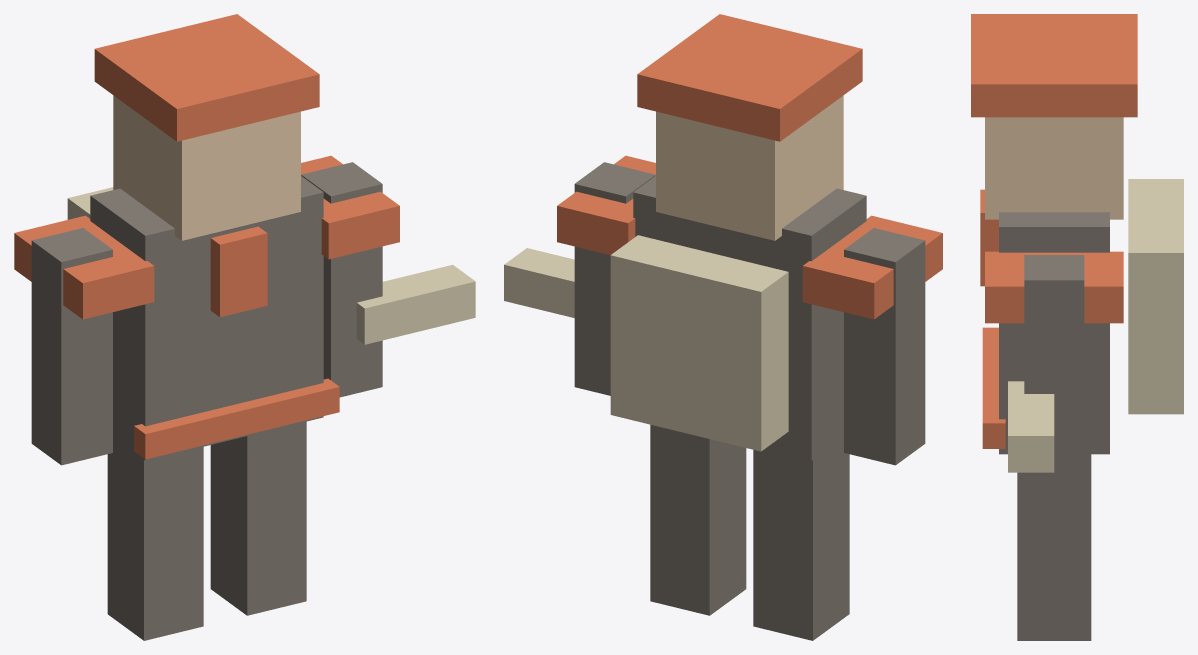
File: 20_bex_trenchmark_ranger_under_summit.glb
3 views of the same model, side by side, from view 1: azimuth 30°, elevation 25°; view 2: azimuth 150°, elevation 25°; view 3: azimuth 270°, elevation 25° (orthographic).
Parts seen in each view (by area): view 1: Bex Trenchmark, Ranger under Summit; view 2: Bex Trenchmark, Ranger under Summit; view 3: Bex Trenchmark, Ranger under Summit.
Part boxes in pixels (bbox=[...]): Bex Trenchmark, Ranger under Summit: bbox=[14, 14, 475, 640]; Bex Trenchmark, Ranger under Summit: bbox=[504, 14, 942, 640]; Bex Trenchmark, Ranger under Summit: bbox=[971, 14, 1183, 640].
Size of the model in its own units: 1.1 by 1.41 by 0.4924.
